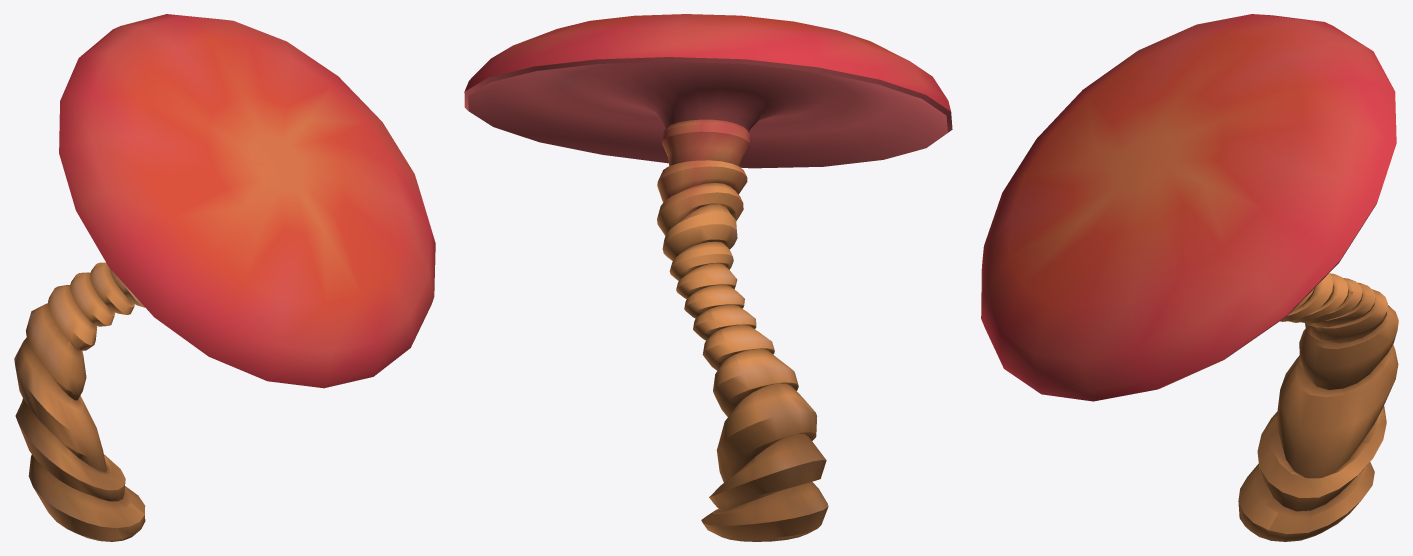
File: Mushroom4.fbx
3 views of the same model, side by side, from view 1: azimuth 30°, elevation 25°; view 2: azimuth 150°, elevation 25°; view 3: azimuth 270°, elevation 25° (orthographic). The views are drawn at different scales.
Parts seen in each view (by area): view 1: Mushroom1; view 2: Mushroom1; view 3: Mushroom1.
Part boxes in pixels (x1,y1,x2,y2): Mushroom1: [14, 14, 435, 541]; Mushroom1: [464, 14, 952, 541]; Mushroom1: [981, 14, 1398, 541].
Size of the model in its own units: 1077 by 1307 by 963.
